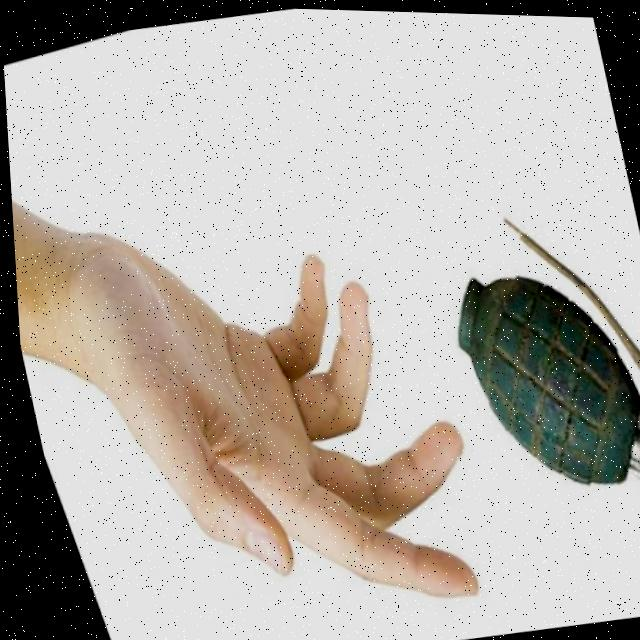grenade: (397, 165, 640, 562)
